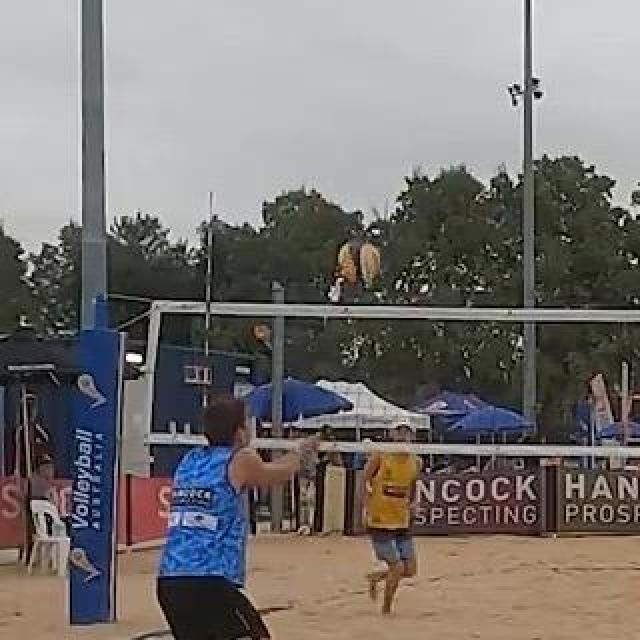volleyball: (338, 240, 380, 282)
